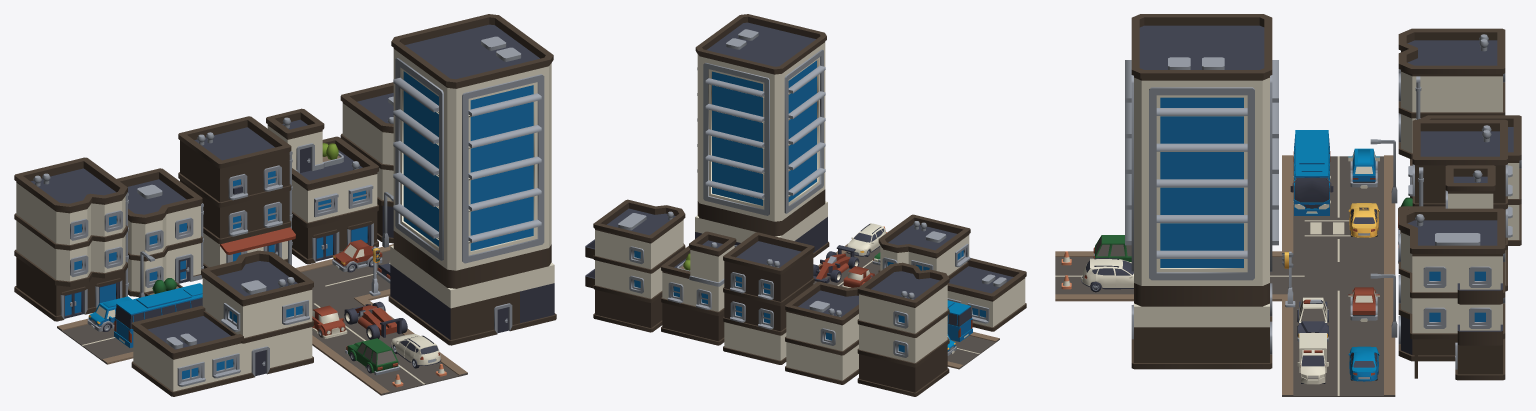
The model's file is ken-city-street.glb.
3 views of the same model, side by side, from view 1: azimuth 30°, elevation 25°; view 2: azimuth 150°, elevation 25°; view 3: azimuth 270°, elevation 25° (orthographic). The views are drawn at different scales.
Visible parts, largest first — view 1: skyscraper-a, building-e, building-a, building-h, building-d, building-c, road-straight (×4), building-b, bus, road-intersection, race-car-red, car-stationwagon (+4 smaller); view 2: skyscraper-a, building-a, building-b, building-h, building-e, building-c, building-d, race-car-red, road-straight, bus, suv, vehicle; view 3: skyscraper-a, building-b, road-straight (×5), building-a, building-h, road-intersection, road-crossing, bus, building-d, building-c, suv, ambulance (+6 smaller).
Boxes of the visible parts, x1,y1,x2,y2 form: skyscraper-a: [388, 14, 556, 345]; building-e: [131, 250, 313, 396]; building-a: [14, 157, 128, 321]; building-h: [178, 116, 295, 268]; building-d: [266, 108, 378, 264]; building-c: [117, 168, 203, 296]; road-straight (×4): [57, 244, 467, 395]; building-b: [340, 82, 393, 243]; bus: [114, 283, 202, 347]; road-intersection: [295, 262, 367, 310]; race-car-red: [344, 301, 407, 339]; car-stationwagon: [345, 338, 399, 375]; skyscraper-a: [695, 14, 829, 257]; building-a: [857, 262, 949, 396]; building-b: [585, 199, 685, 332]; building-h: [723, 232, 814, 364]; building-e: [878, 214, 1026, 331]; building-c: [785, 281, 858, 384]; building-d: [661, 231, 736, 345]; race-car-red: [813, 245, 859, 283]; road-straight: [947, 332, 999, 369]; bus: [947, 300, 972, 341]; suv: [846, 223, 885, 256]; vehicle: [842, 266, 874, 288]; skyscraper-a: [1125, 14, 1278, 369]; building-b: [1398, 208, 1505, 380]; road-straight (×5): [1055, 155, 1395, 396]; building-a: [1398, 28, 1505, 198]; building-h: [1398, 119, 1512, 291]; road-intersection: [1282, 251, 1395, 300]; road-crossing: [1282, 203, 1395, 252]; bus: [1290, 130, 1333, 215]; building-d: [1398, 165, 1495, 315]; building-c: [1398, 115, 1521, 245]; suv: [1081, 258, 1133, 292]; ambulance: [1297, 332, 1328, 384].
Size of the model in its own units: 11 by 6.34 by 9.05.
1 material, 1 textured.
